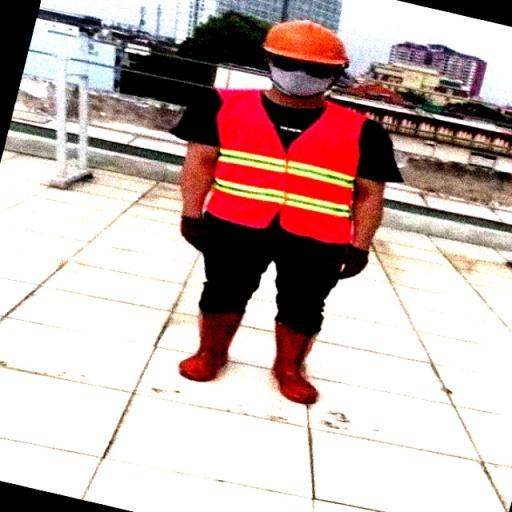Person: (167, 0, 395, 434)
boots: (264, 313, 334, 412), (166, 311, 250, 384)
gloves: (178, 212, 219, 255), (332, 243, 377, 281)
goggles: (254, 48, 346, 80)
helmet: (260, 17, 355, 69)
vest: (192, 83, 366, 250)
